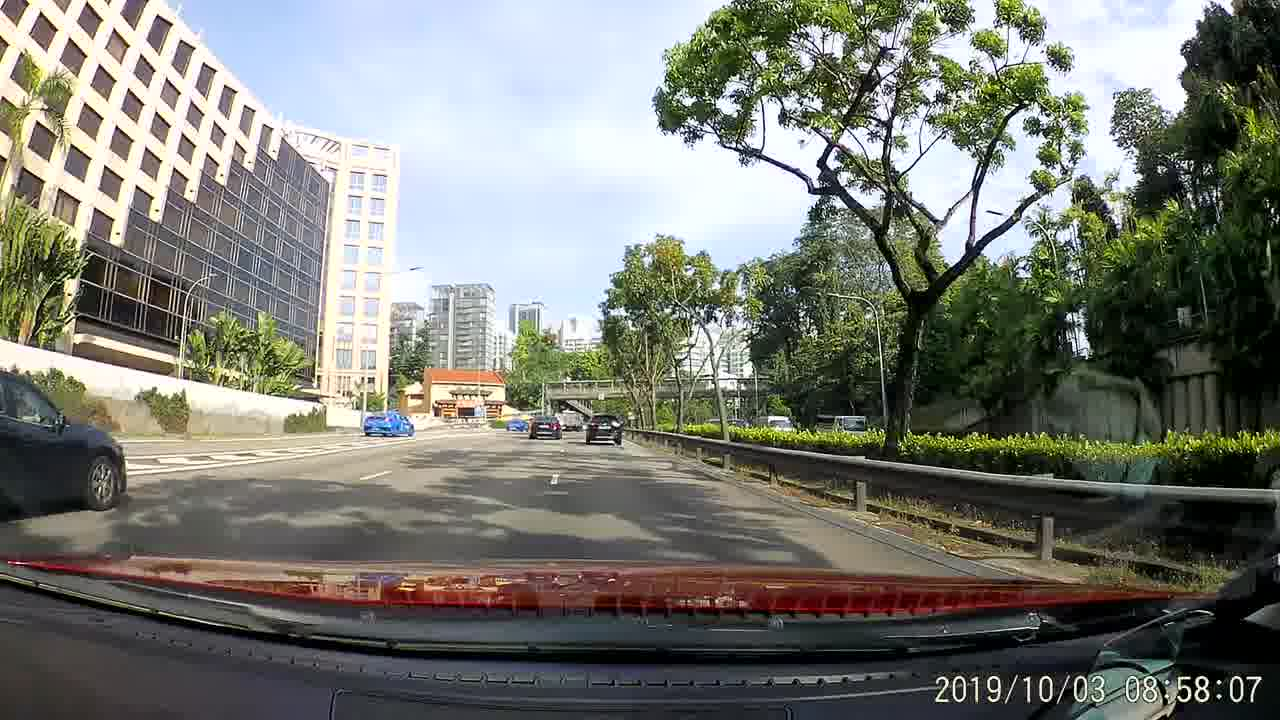car: (2, 369, 129, 514), (362, 407, 415, 437), (586, 411, 625, 445), (529, 413, 562, 443), (506, 418, 533, 434)
